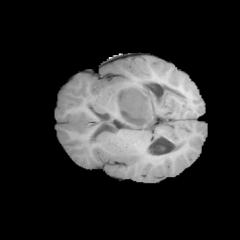glioma: (111, 85, 154, 127)
